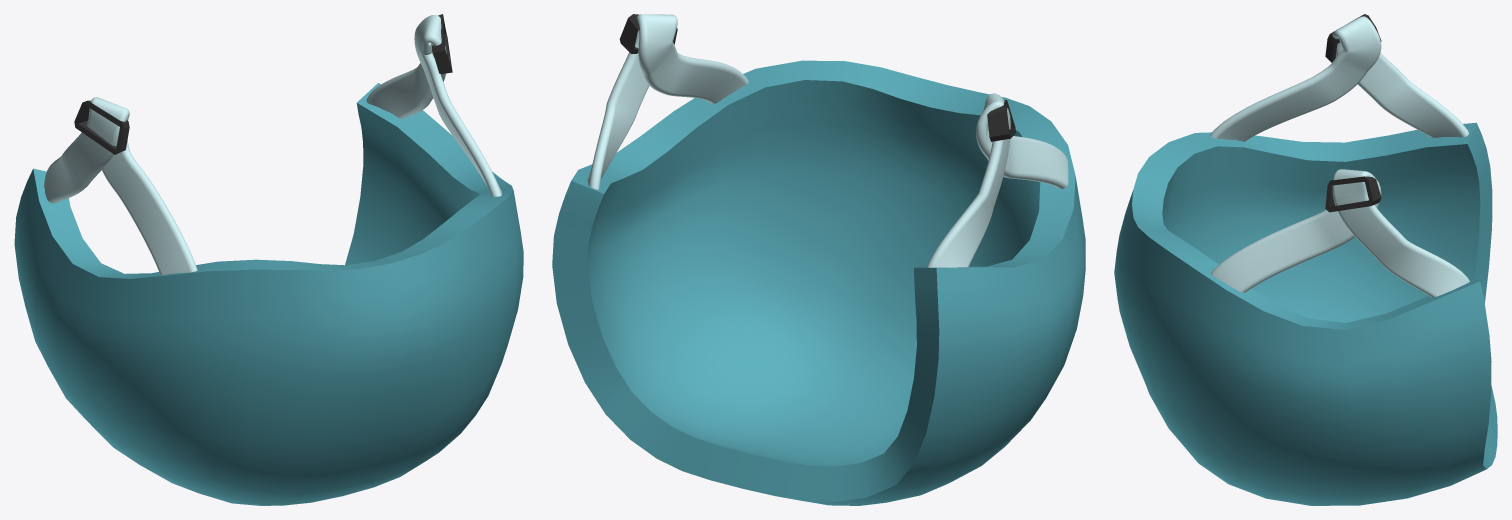
The model's file is Helmet_HALF.fbx.
3 views of the same model, side by side, from view 1: azimuth 30°, elevation 25°; view 2: azimuth 150°, elevation 25°; view 3: azimuth 270°, elevation 25° (orthographic). The views are drawn at different scales.
Visible parts, largest first — view 1: Helmet.001, Band.001, Buckle.001; view 2: Helmet.001, Band.001, Buckle.001; view 3: Helmet.001, Band.001, Buckle.001.
Part boxes in pixels (bbox=[...]): Helmet.001: bbox=[14, 83, 523, 505]; Band.001: bbox=[44, 15, 501, 275]; Buckle.001: bbox=[74, 14, 452, 154]; Helmet.001: bbox=[552, 60, 1085, 505]; Band.001: bbox=[587, 14, 1068, 267]; Buckle.001: bbox=[619, 14, 1015, 141]; Helmet.001: bbox=[1114, 122, 1497, 505]; Band.001: bbox=[1210, 16, 1469, 297]; Buckle.001: bbox=[1325, 14, 1381, 212].
Size of the model in its own units: 341 by 307 by 279.
